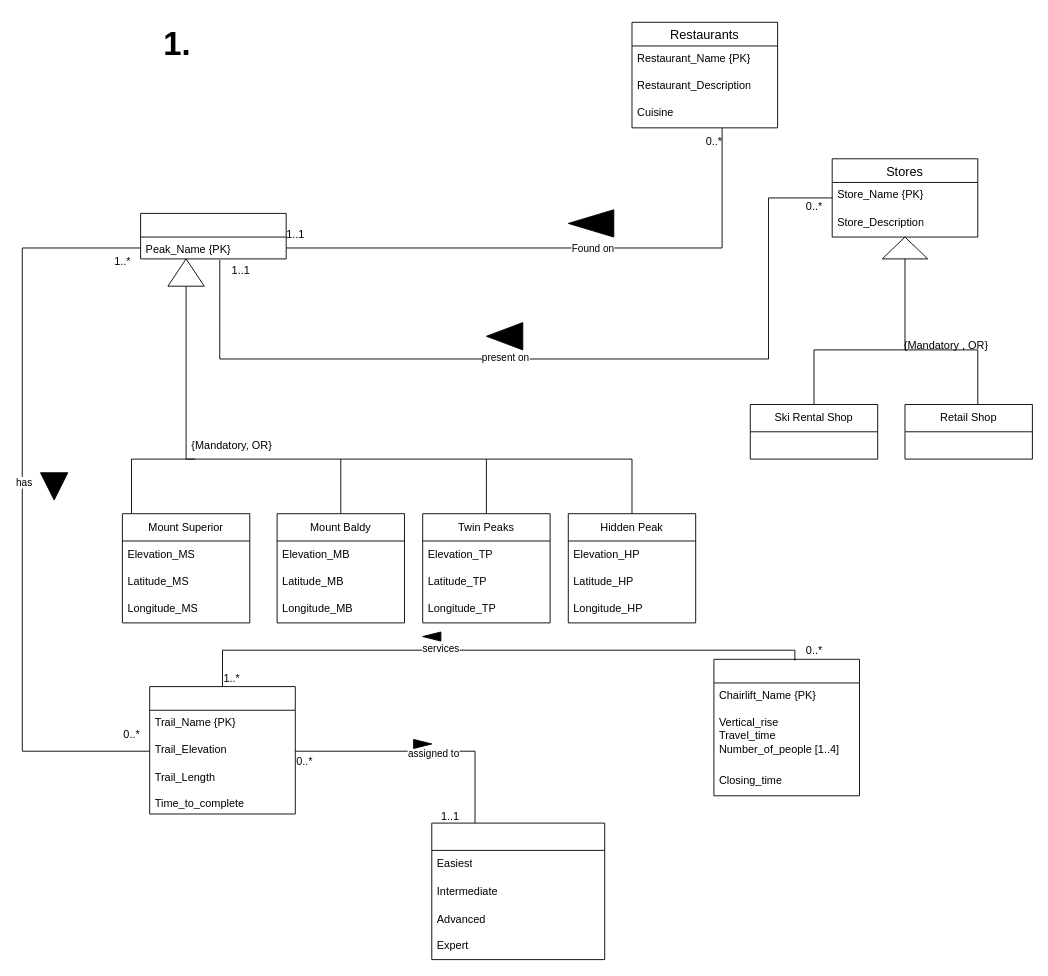
This 1048x976 diagram has some shape labels left out. Here are the shapes that lost their labels. From the top down, the box of each, then its label:
(140, 212, 286, 259): Ski Mountain Peaks
(713, 658, 859, 796): Chairlifts
(149, 686, 295, 814): Trails
(431, 822, 605, 960): Level Of Difficulty
